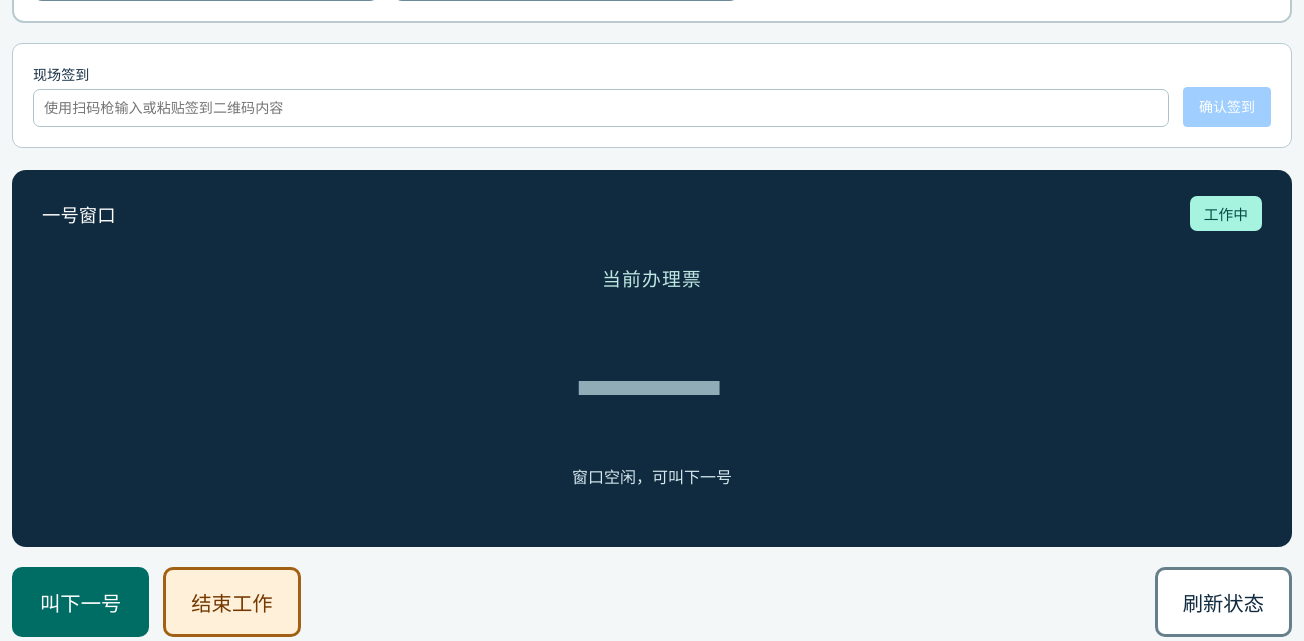
it: WorkbenchView › locks all actions while the confirmation is open
(page scrolled)
Click the button "叫下一号": (81, 602) left=12, top=567, right=149, bottom=637
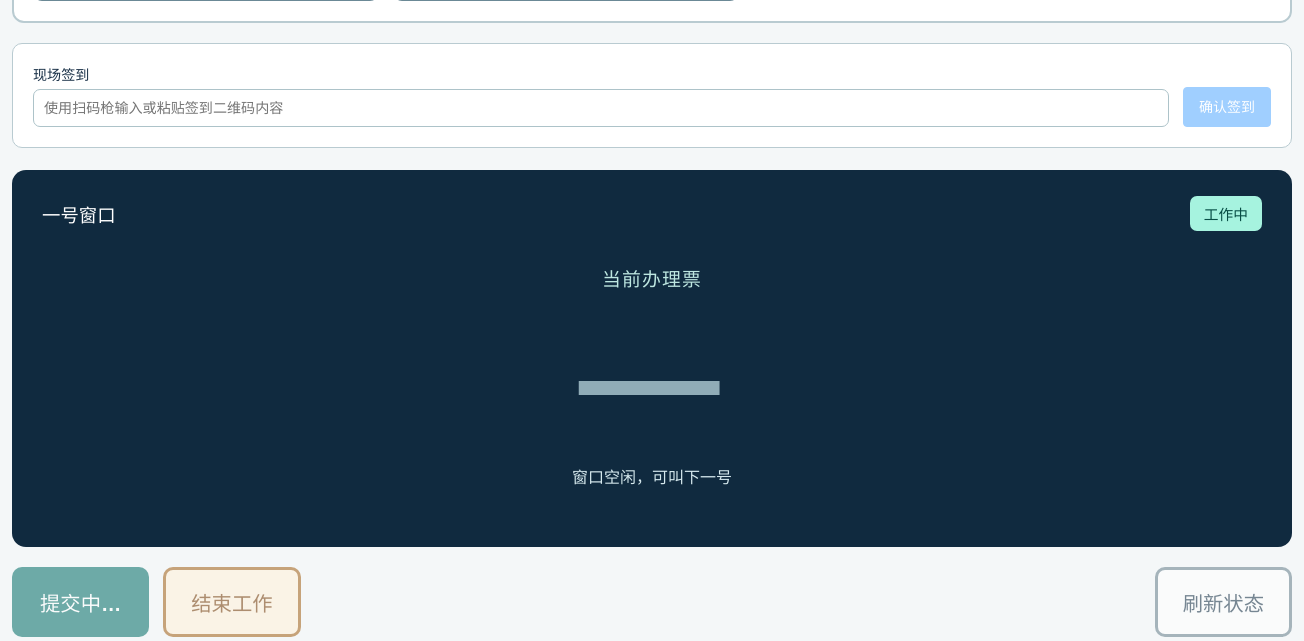
Click the button "提交中…": (81, 602) left=12, top=567, right=149, bottom=637
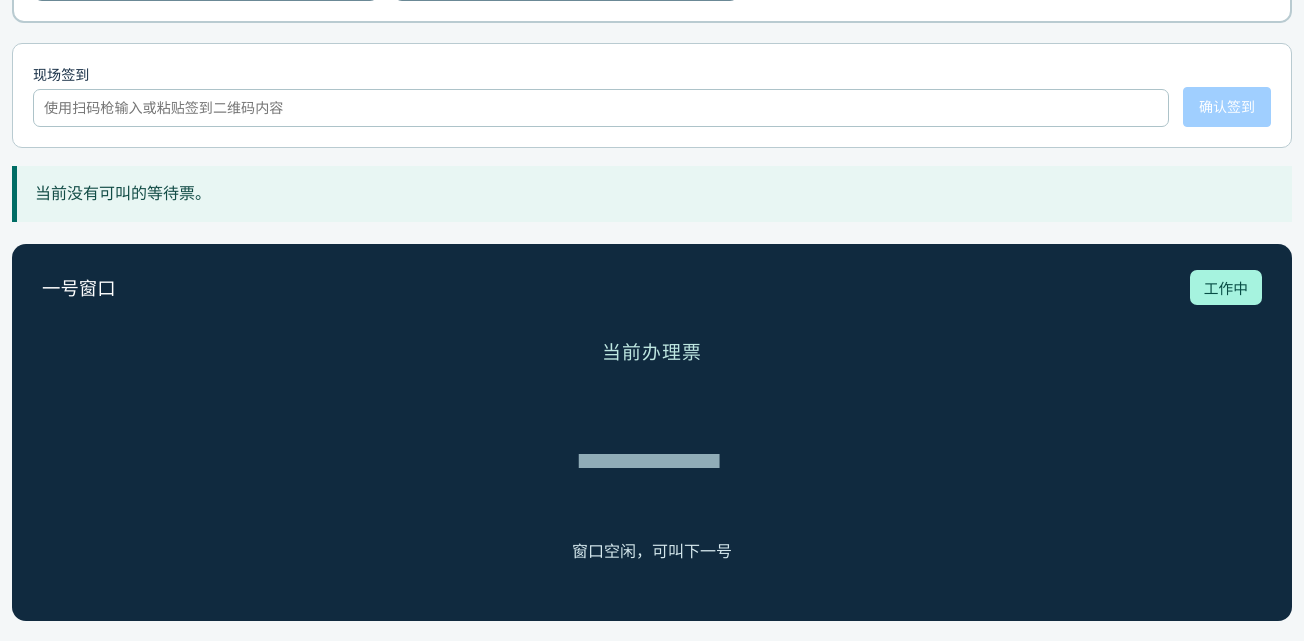
Now the text "当前没有可叫的等待票" is shown, box left=35, top=185, right=211, bottom=202
